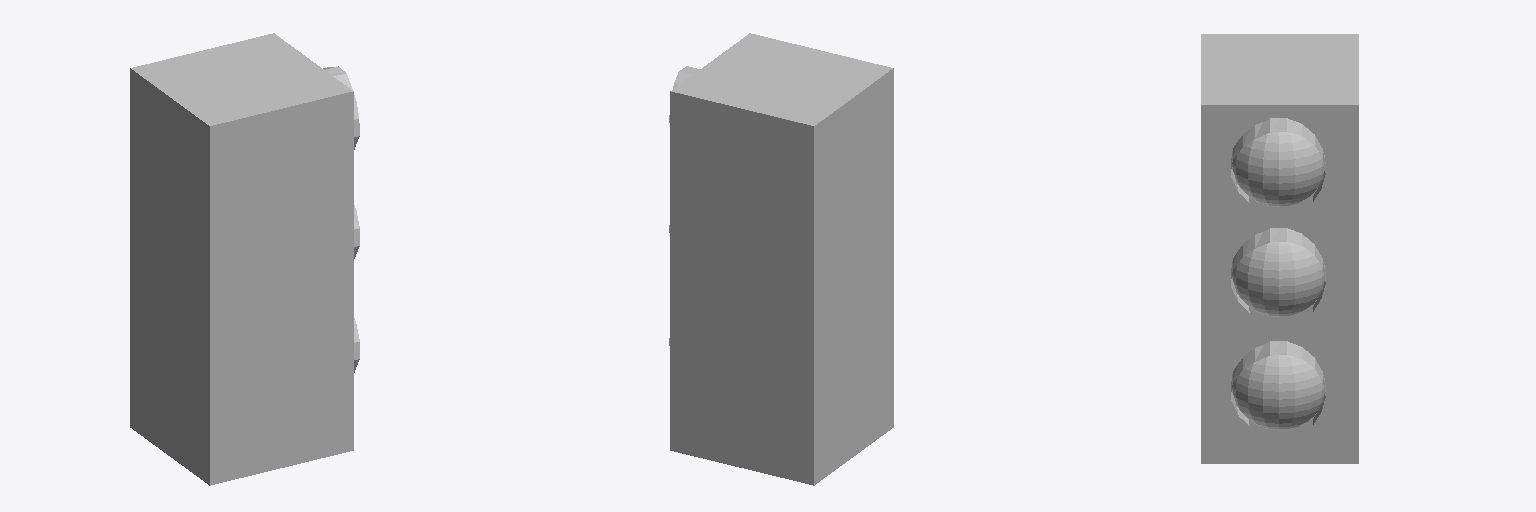
The model's file is StopLgiht.obj.
3 renders of one model, left to right at view 1: azimuth 30°, elevation 25°; view 2: azimuth 150°, elevation 25°; view 3: azimuth 270°, elevation 25°, orthographic.
Visible parts, largest first — view 1: pCube12; view 2: pCube12; view 3: pCube12.
Boxes of the visible parts, box(x1,y1,x2,y2) form: pCube12: box(130, 33, 359, 485); pCube12: box(669, 33, 893, 485); pCube12: box(1201, 34, 1358, 463).
Bounding box in the file's own units: 0.5004 × 1 × 0.4007.